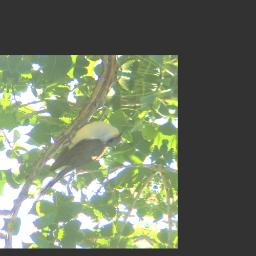Cuckoo: (35, 112, 125, 214)
